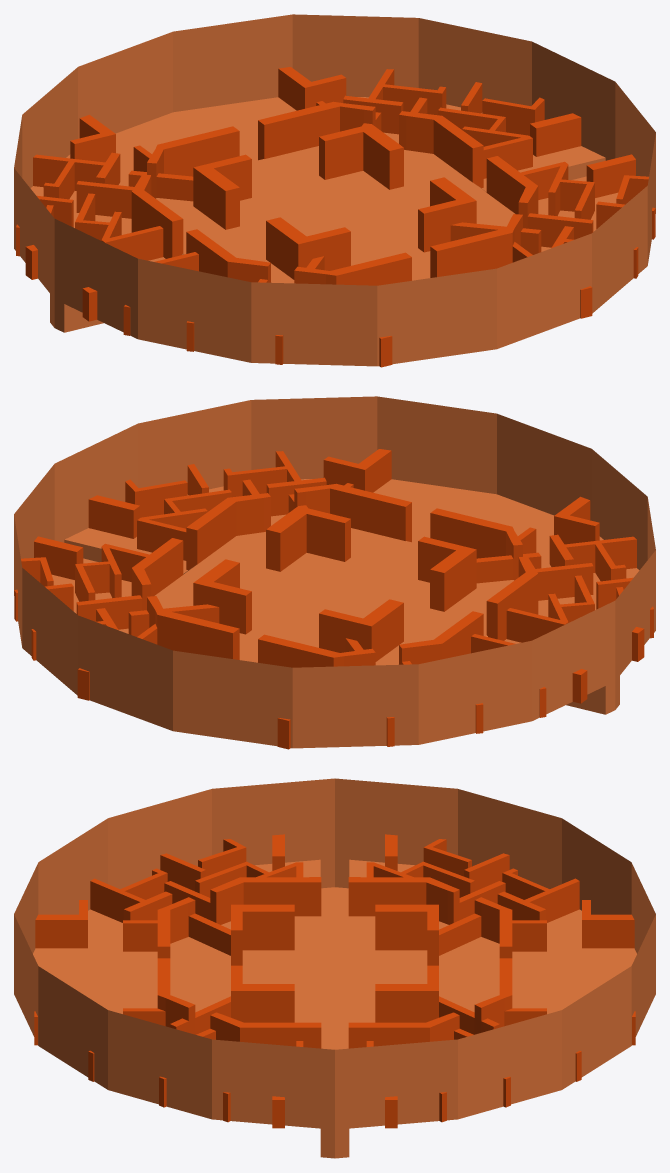
Rendered from Map.fbx.
3 renders of one model, top to bottom at view 1: azimuth 30°, elevation 25°; view 2: azimuth 150°, elevation 25°; view 3: azimuth 270°, elevation 25°, orthographic.
Parts seen in each view (by area): view 1: Circle, Cube; view 2: Circle, Cube; view 3: Circle, Cube.
Boxes of the visible parts, bbox=[...] form: Circle: bbox=[14, 14, 655, 366]; Cube: bbox=[16, 67, 655, 367]; Circle: bbox=[14, 396, 655, 748]; Cube: bbox=[14, 449, 653, 749]; Circle: bbox=[14, 778, 655, 1158]; Cube: bbox=[34, 834, 635, 1128].
Size of the model in its own units: 10051 by 1878 by 10051.
